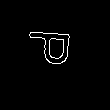P_E: (28, 35, 82, 75)
